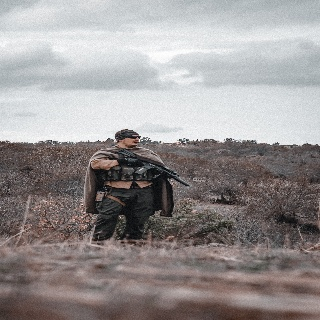rifle: (113, 144, 190, 187)
